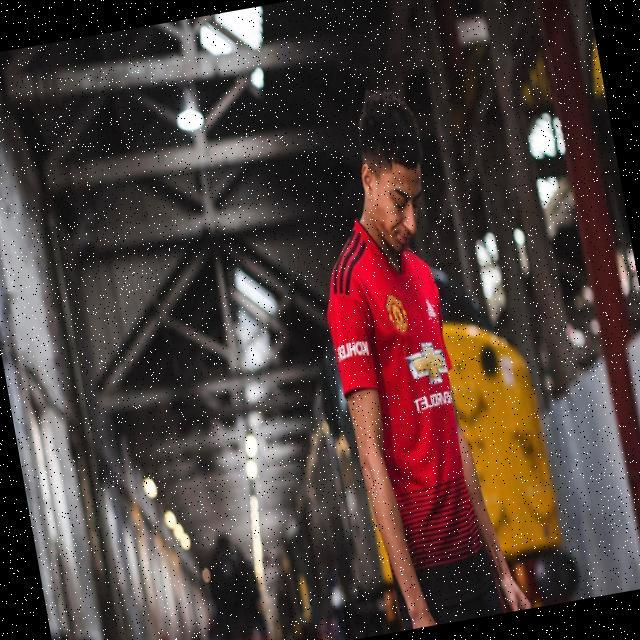Adidas: (421, 291, 440, 324)
Chevrolet: (402, 339, 455, 416)
Kohler: (333, 334, 371, 365)
